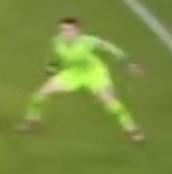goalkeeper: (5, 7, 164, 152)
